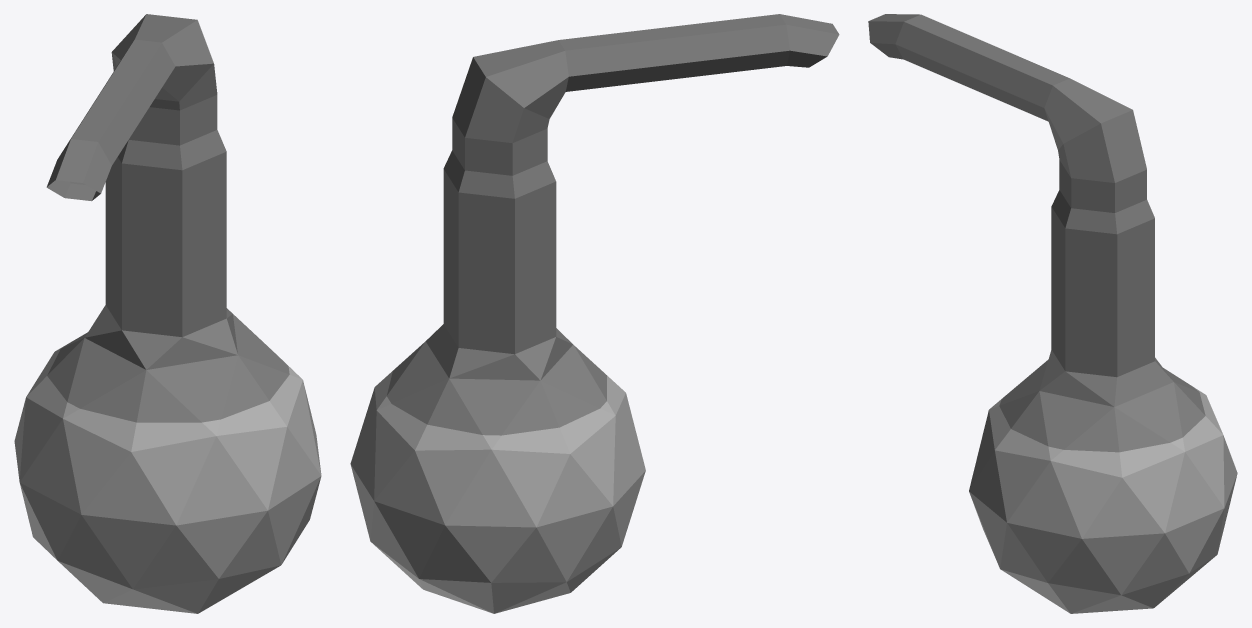
The model's file is alchemist_aparatus_749x20.gltf.
The picture shows the model from 3 angles, left to right: view 1: azimuth 30°, elevation 25°; view 2: azimuth 150°, elevation 25°; view 3: azimuth 270°, elevation 25°; orthographic projection. The views are drawn at different scales.
Parts seen in each view (by area): view 1: alchemist_aparatus_749x20; view 2: alchemist_aparatus_749x20; view 3: alchemist_aparatus_749x20.
Boxes of the visible parts, x1,y1,x2,y2 form: alchemist_aparatus_749x20: (14, 14, 321, 613); alchemist_aparatus_749x20: (350, 14, 839, 613); alchemist_aparatus_749x20: (868, 14, 1237, 613).
Size of the model in its own units: 0.7126 by 1.07 by 0.7091.
Materials: 2 (2 with a texture image).
